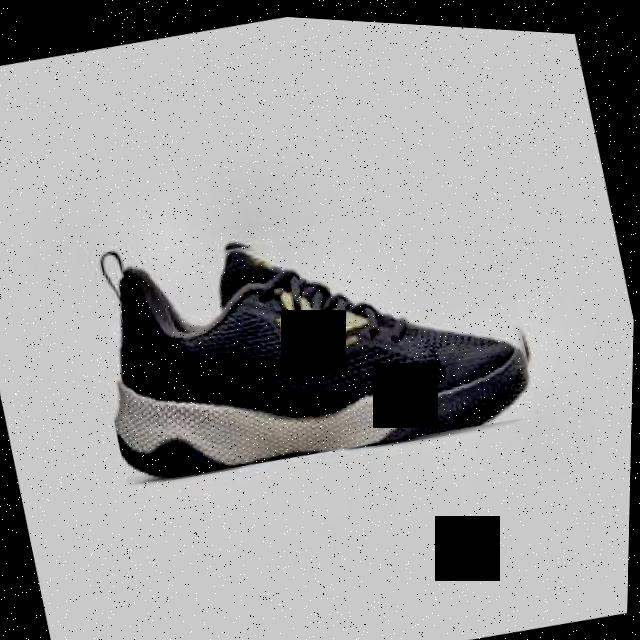shoe: (80, 169, 548, 503)
